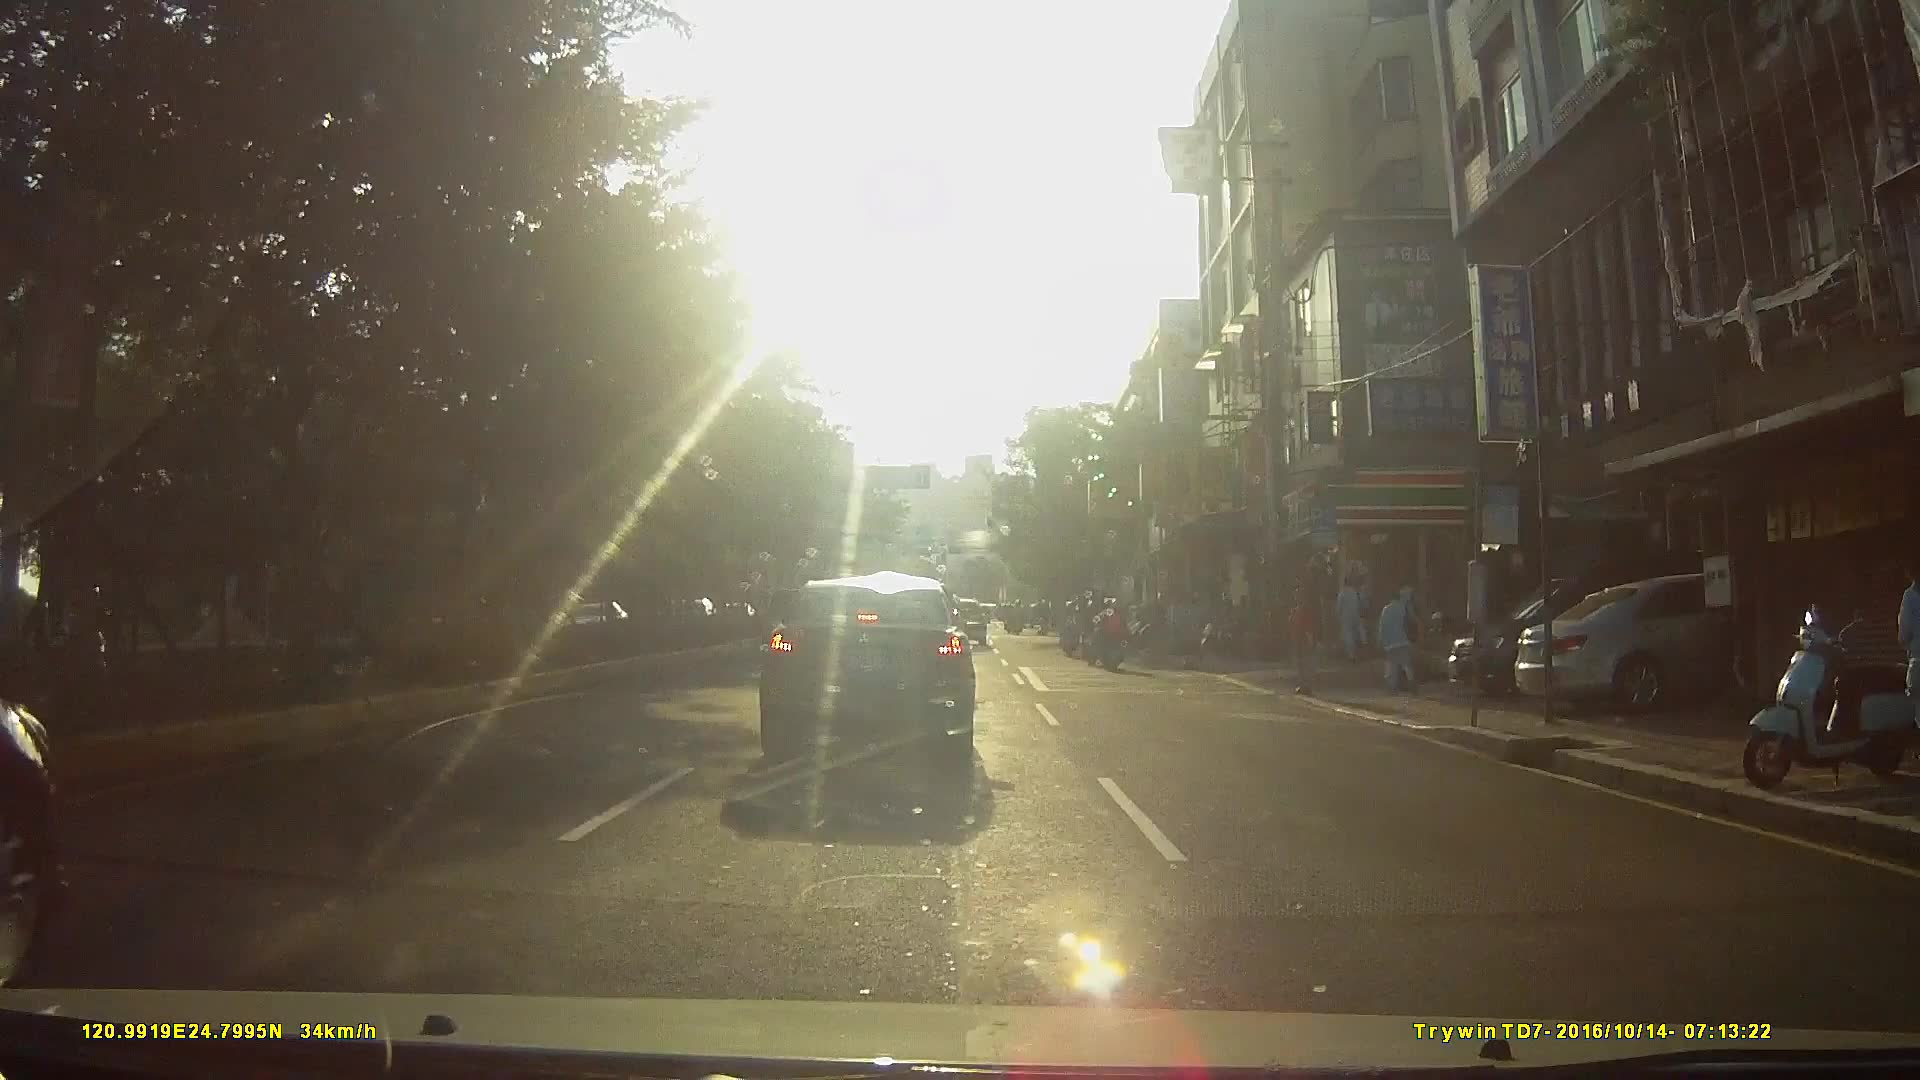pedestrian: (1373, 586, 1420, 701), (1901, 547, 1920, 760), (1290, 583, 1321, 698)
rider: (1093, 596, 1131, 675), (1076, 599, 1102, 670), (1058, 604, 1080, 663)
vehicle: (1440, 559, 1826, 711), (1505, 574, 1875, 723), (743, 573, 996, 776)
